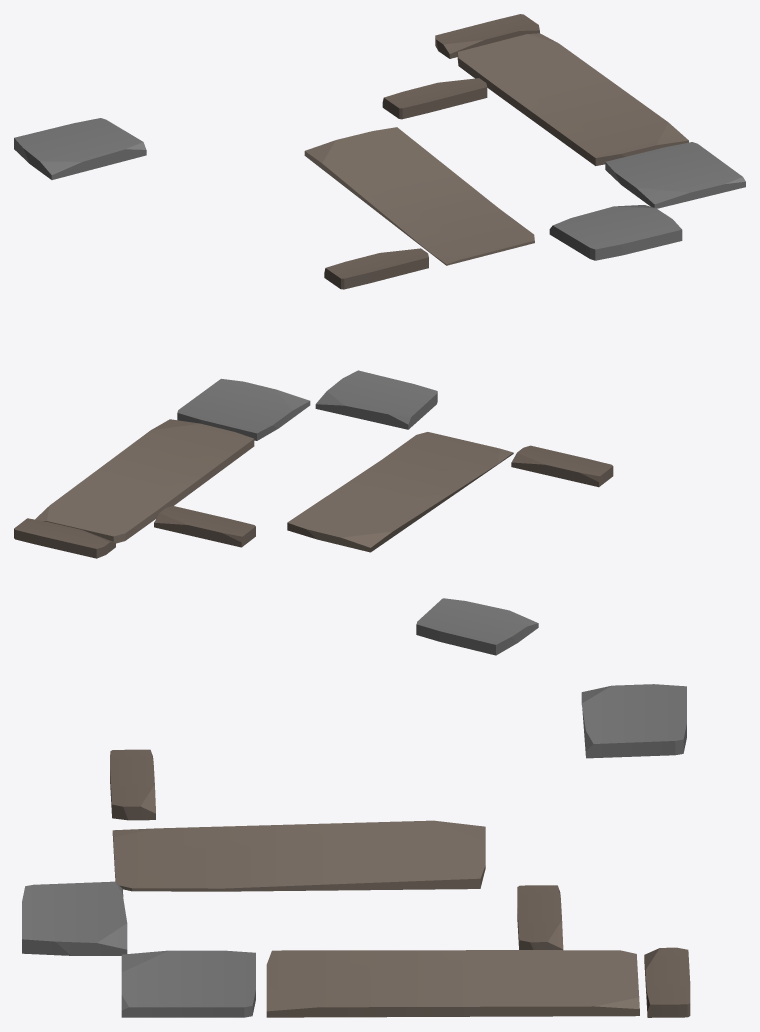
File: obj_walk.fbx
The picture shows the model from 3 angles, top to bottom: view 1: azimuth 30°, elevation 25°; view 2: azimuth 150°, elevation 25°; view 3: azimuth 270°, elevation 25°; orthographic projection. The views are drawn at different scales.
Visible parts, largest first — view 1: Plane.014; view 2: Plane.014; view 3: Plane.014.
Boxes of the visible parts, x1,y1,x2,y2 form: Plane.014: (14, 14, 745, 289); Plane.014: (14, 370, 613, 655); Plane.014: (22, 684, 690, 1017).
Size of the model in its own units: 333 by 323 by 8.34.
